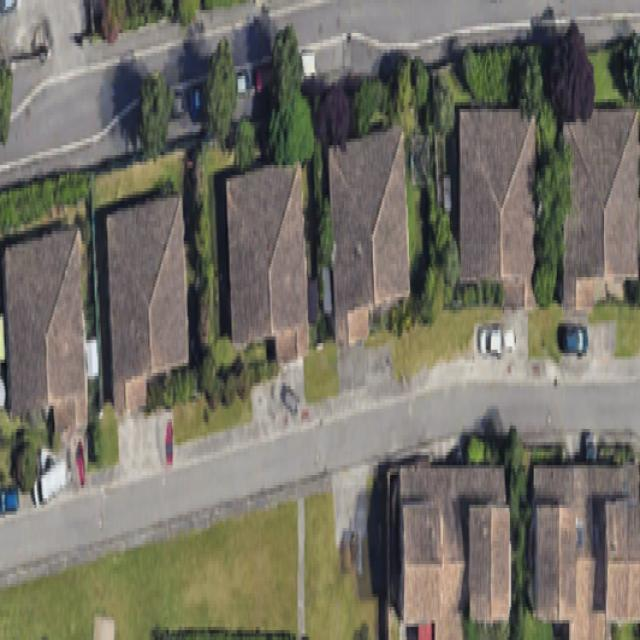maison: (100, 195, 193, 409), (401, 462, 511, 637), (326, 125, 411, 343), (532, 465, 639, 637), (221, 163, 311, 362), (1, 228, 87, 428), (563, 109, 639, 307), (460, 109, 534, 307)
